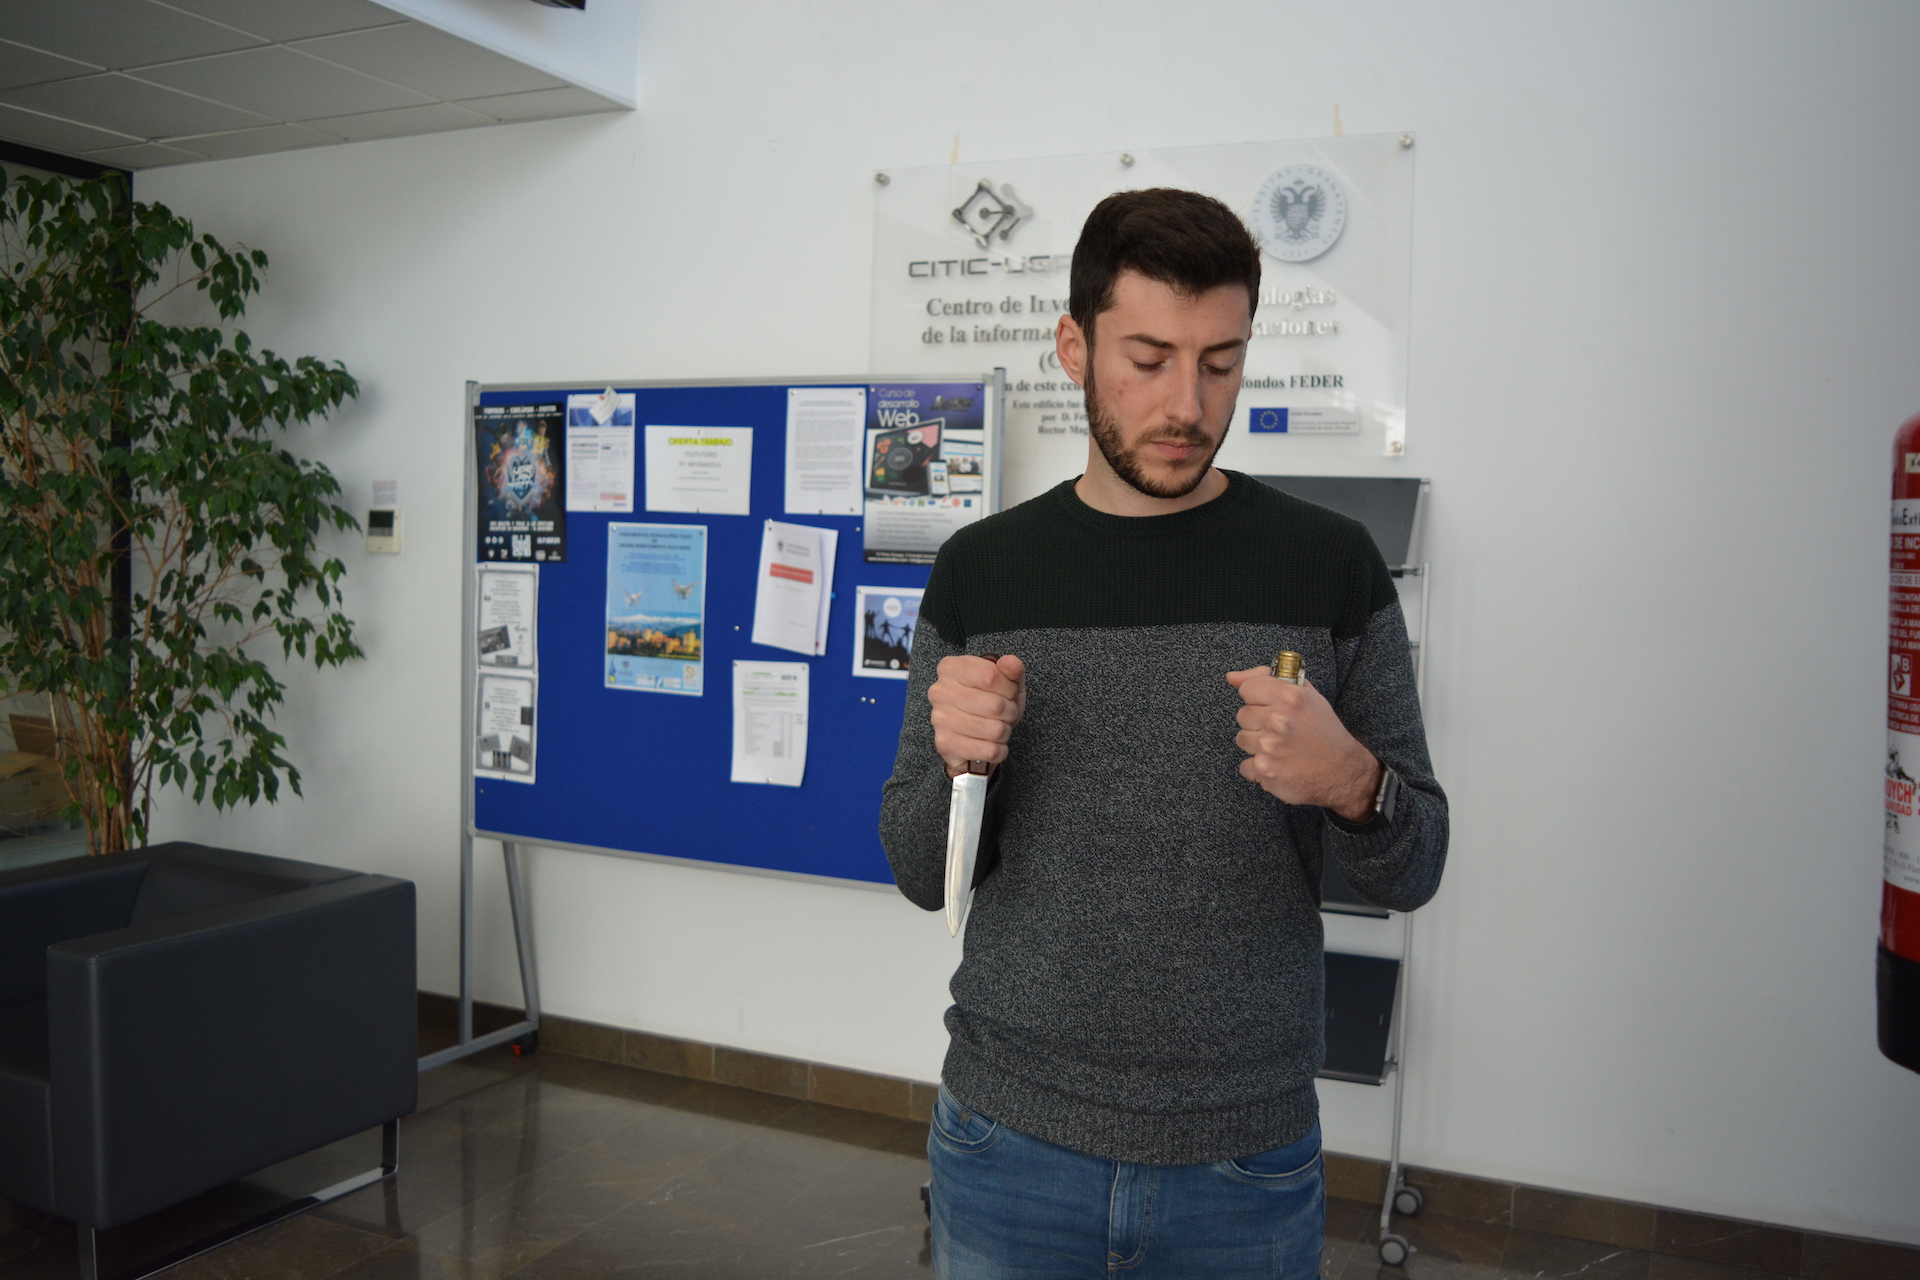knife: (930, 641, 1010, 941)
